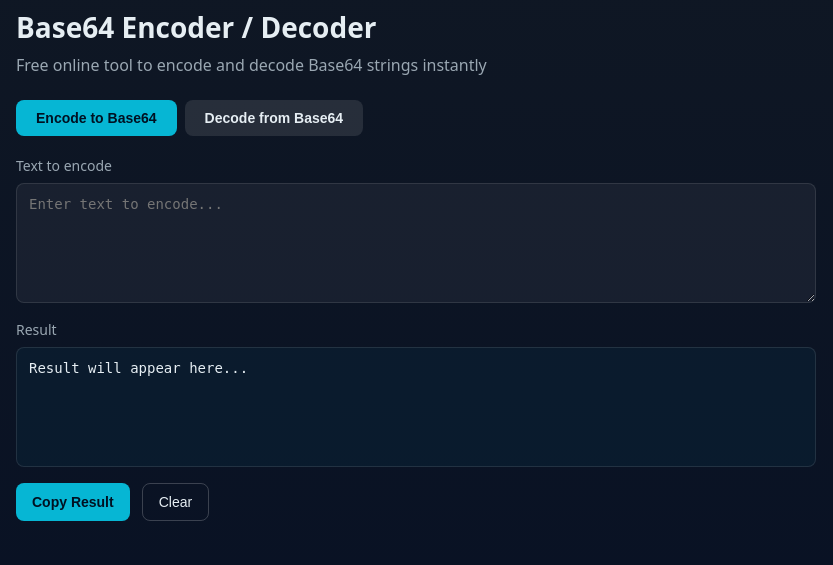
Test: Base64Tool › shows error for invalid base64
Click the button "Decode from Base64". click: point(274, 118)
box: [185, 100, 363, 136]
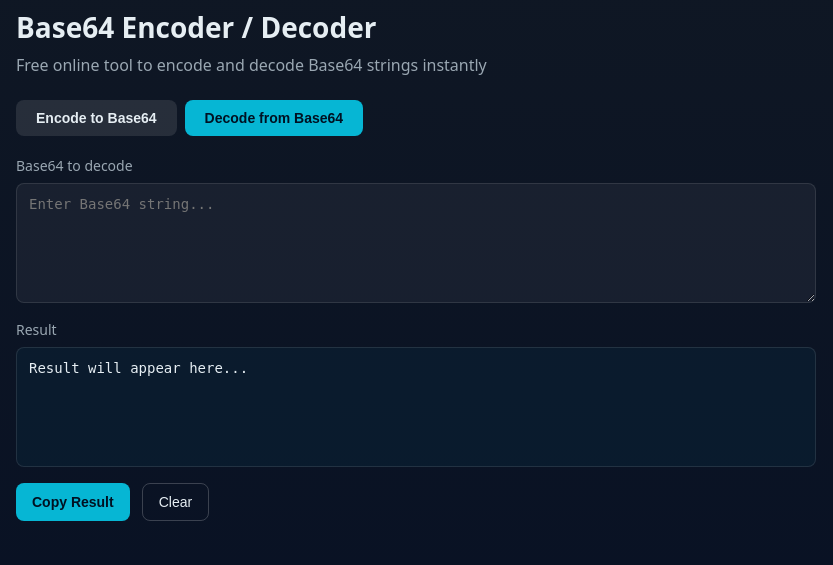
Type "not-valid-base64!!!" into the text box with placeholder "Enter Base64 string...". click: point(416, 243)
box: [16, 183, 816, 303]
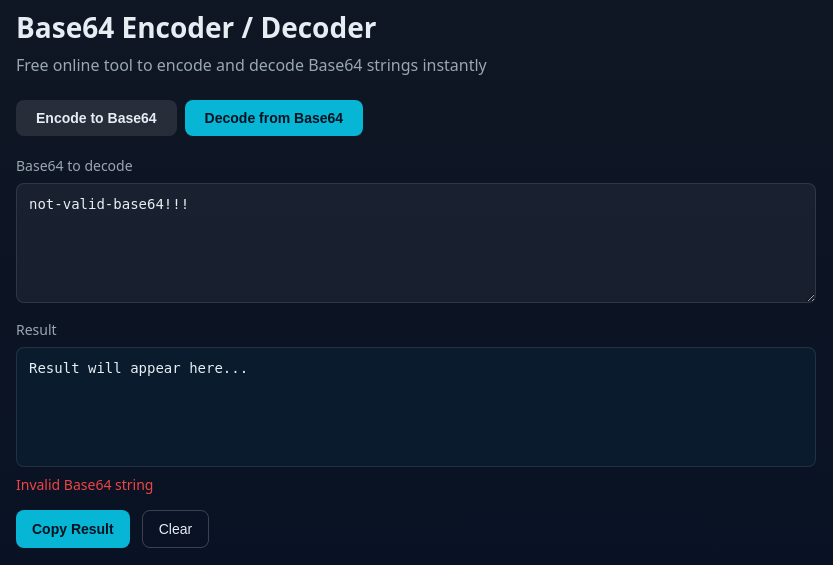
Expected: the text "Invalid Base64 string" is shown, [16, 475, 154, 494]
